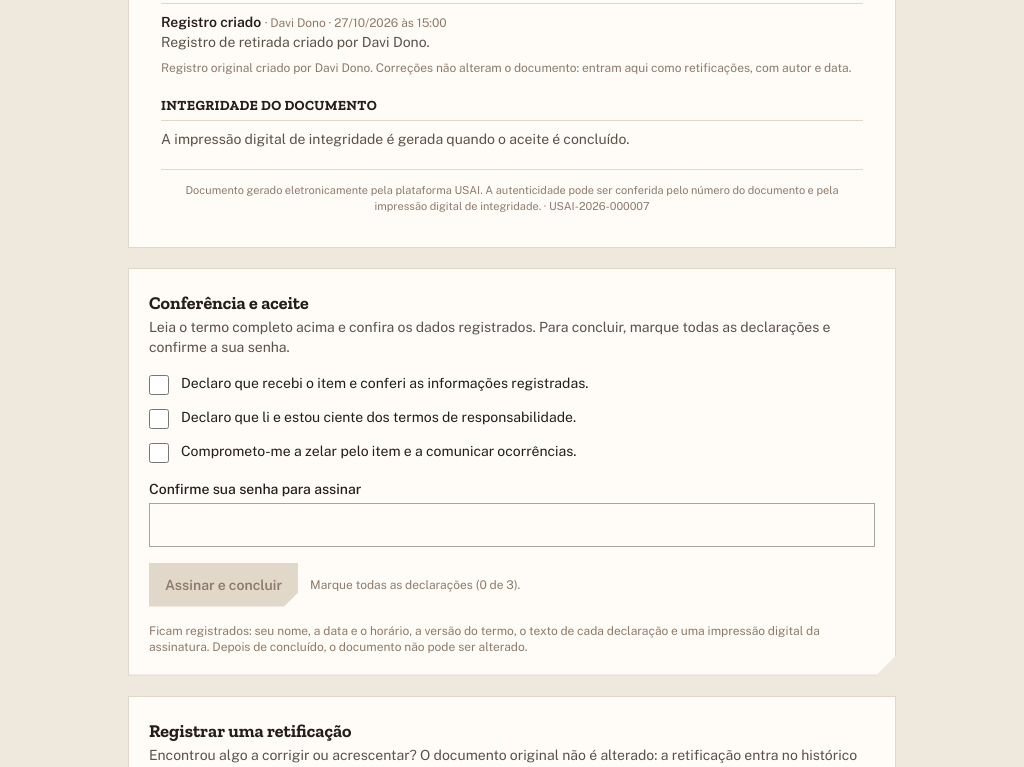
it: MovimentacaoPage — aceite obrigatório › com tudo marcado e a senha, envia o aceite e passa a mostrar o documento concluído
(page scrolled)
Click the 1st checkbox at (159, 384), box [149, 374, 169, 394]
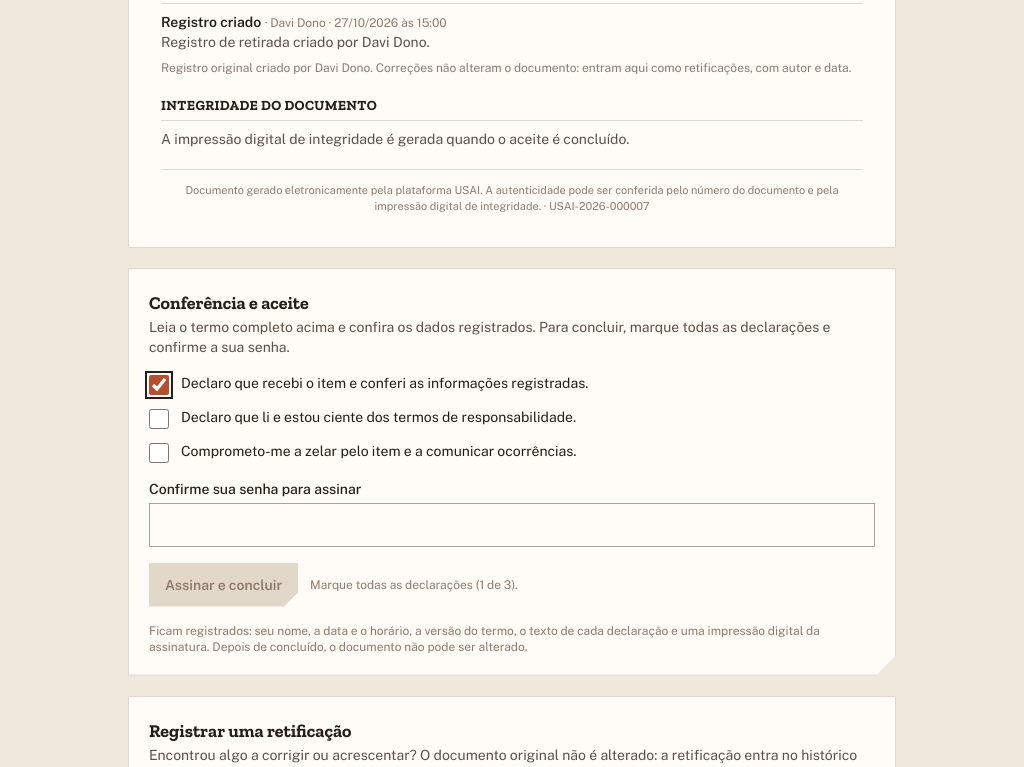
Click the 2nd checkbox at (159, 418), box [149, 408, 169, 428]
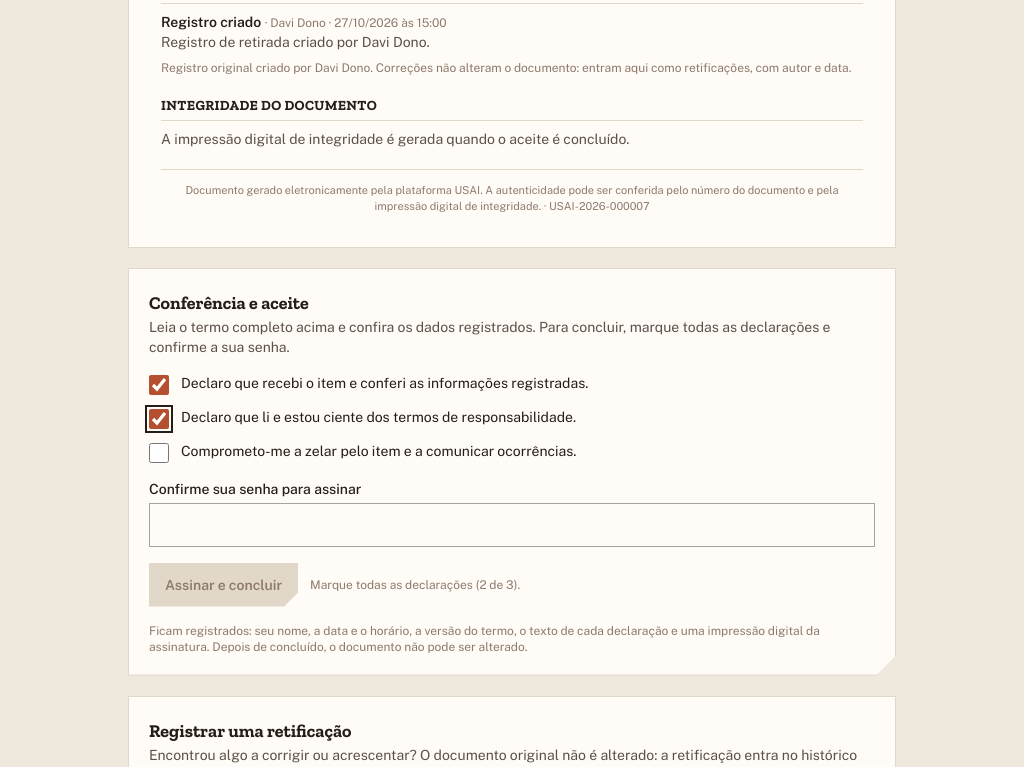
Click the checkbox labelled "Comprometo-me a zelar pelo item e a comunicar ocorrências." at (159, 452), box [149, 442, 169, 462]
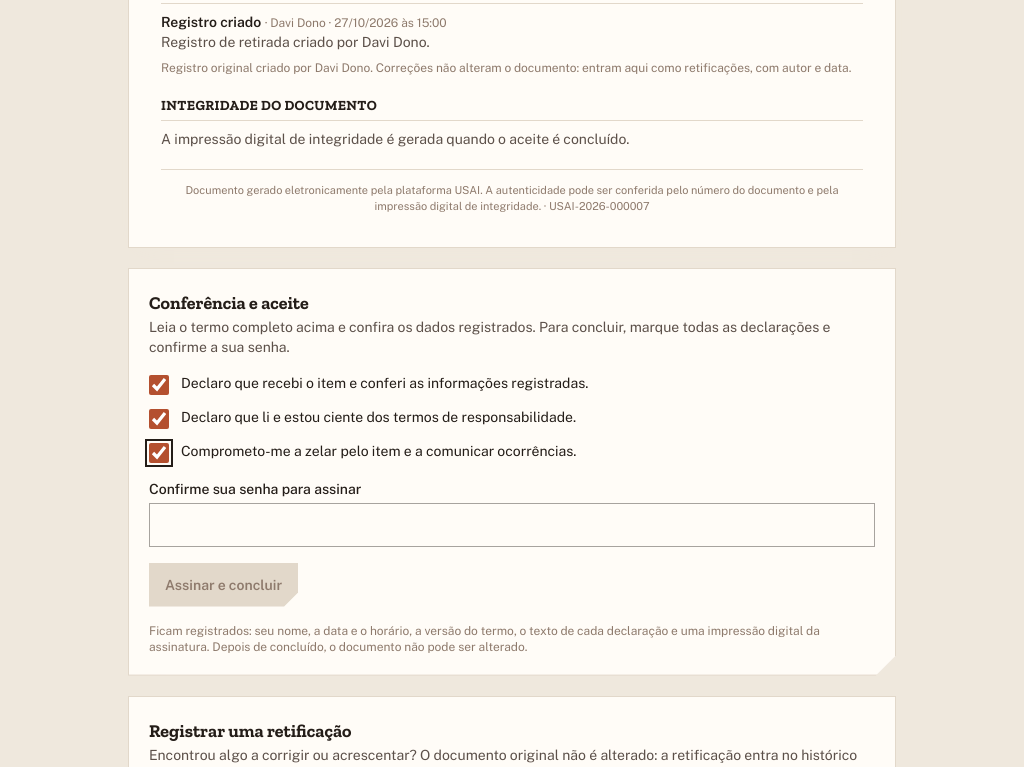
Type "minha-senha" into the password field labelled "Confirme sua senha para assinar" at (512, 524), box [149, 502, 875, 546]
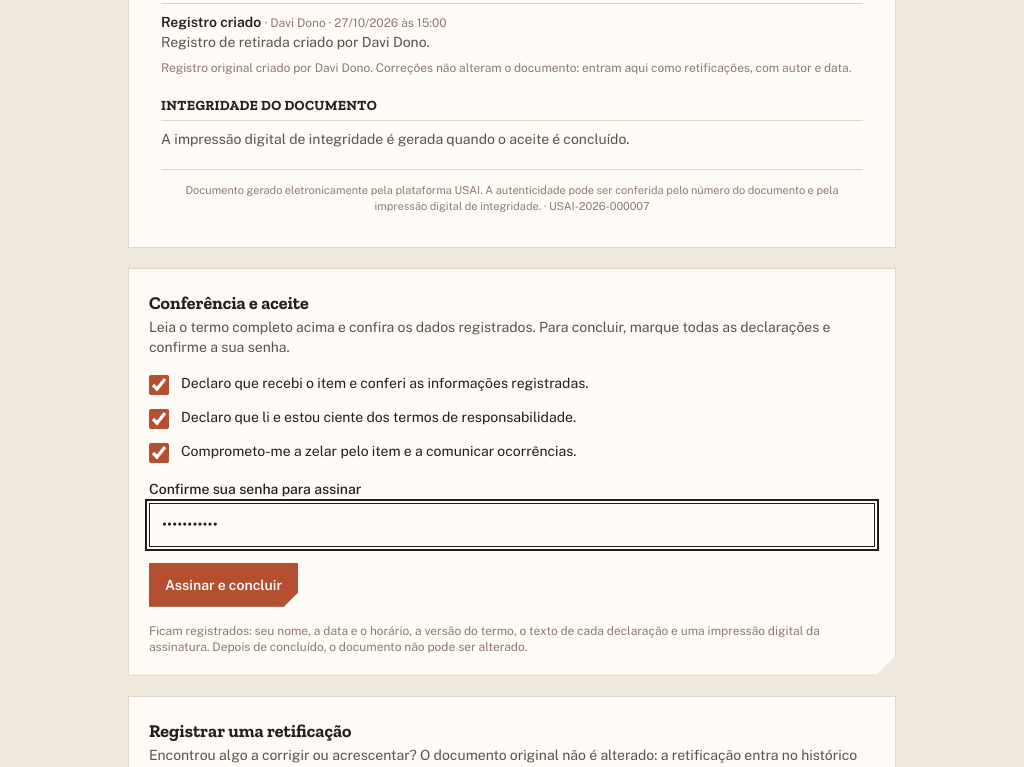
Click the button "Assinar e concluir" at (224, 584), box [149, 562, 298, 606]
(page scrolled)
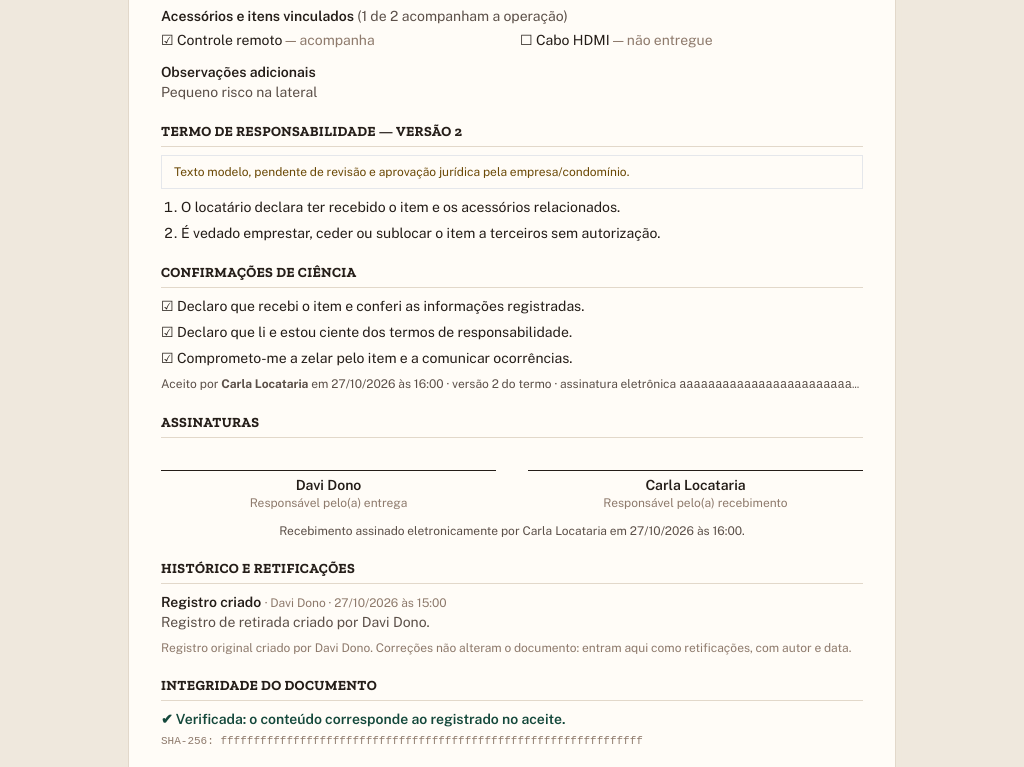
Now the text "Aceito por" is shown, box [161, 376, 221, 390]
Now the button "Assinar e concluir" is gone
